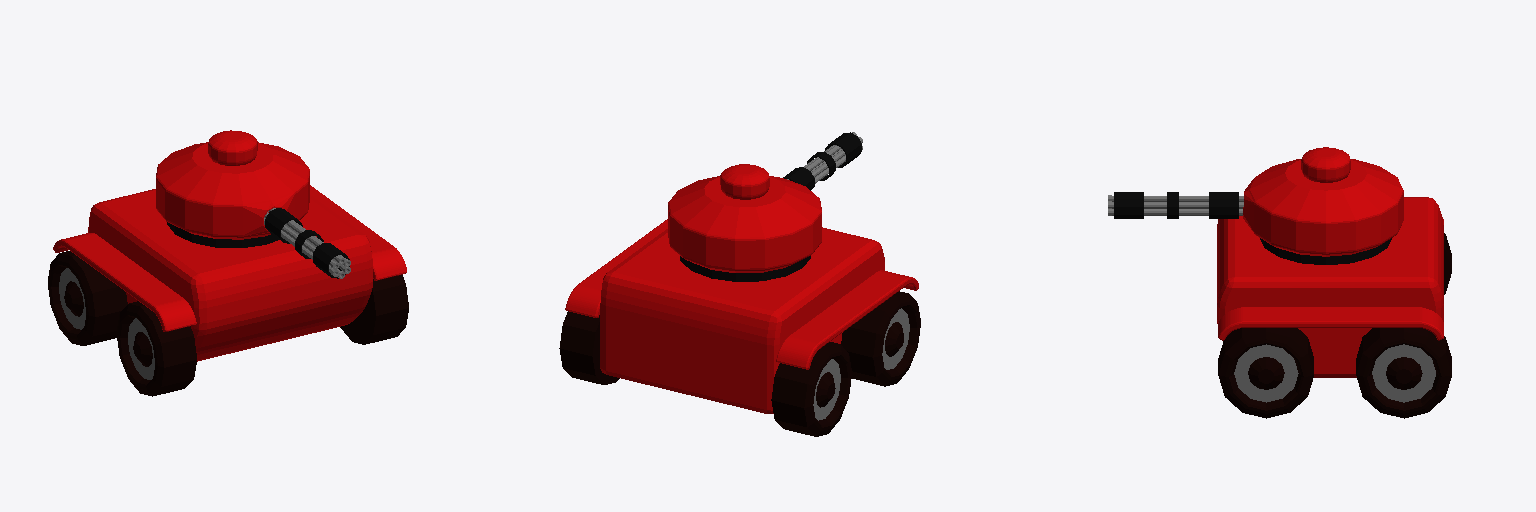
File: tank.obj
3 renders of one model, left to right at view 1: azimuth 30°, elevation 25°; view 2: azimuth 150°, elevation 25°; view 3: azimuth 270°, elevation 25°, orthographic.
Visible parts, largest first — view 1: Cube_Cube.001, Circle, Cylinder, Cube.001_Cube.002, Circle.001; view 2: Cube_Cube.001, Circle, Cylinder, Cube.001_Cube.002, Circle.001; view 3: Cube_Cube.001, Circle, Cylinder, Cube.001_Cube.002, Circle.001.
Part boxes in pixels (left/top/right/bottom): Cube_Cube.001: left=88, top=189, right=372, bottom=361; Circle: left=156, top=130, right=349, bottom=278; Cylinder: left=48, top=251, right=408, bottom=396; Cube.001_Cube.002: left=53, top=185, right=406, bottom=331; Circle.001: left=264, top=208, right=350, bottom=278; Cube_Cube.001: left=600, top=227, right=884, bottom=413; Circle: left=668, top=132, right=861, bottom=281; Cylinder: left=559, top=291, right=920, bottom=436; Cube.001_Cube.002: left=565, top=219, right=918, bottom=369; Circle.001: left=787, top=132, right=862, bottom=183; Cube_Cube.001: left=1217, top=197, right=1443, bottom=377; Circle: left=1114, top=147, right=1403, bottom=264; Cylinder: left=1218, top=233, right=1451, bottom=418; Cube.001_Cube.002: left=1218, top=217, right=1443, bottom=340; Circle.001: left=1108, top=195, right=1243, bottom=215.
Size of the model in its own units: 3.16 by 2.46 by 3.74.